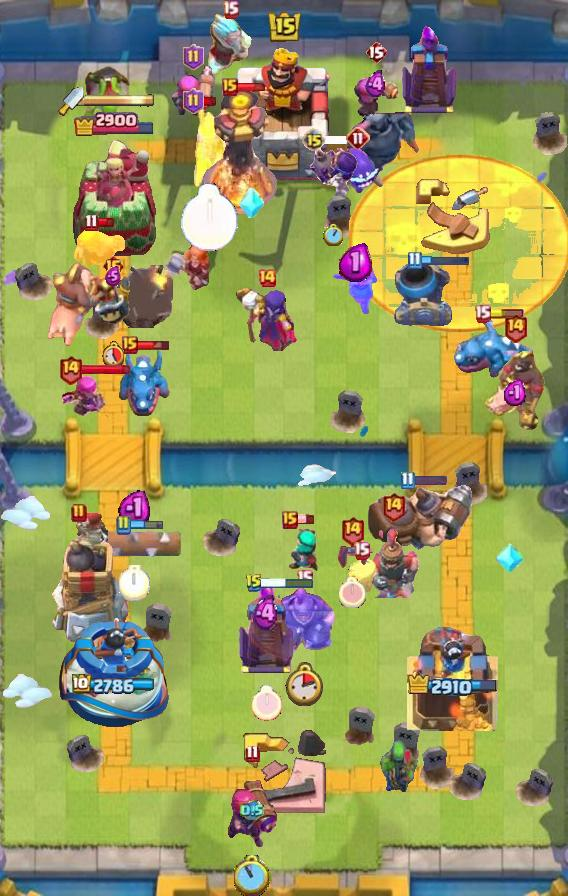archer-evolution: (59, 366, 117, 424)
bar: (261, 577, 314, 590), (419, 254, 471, 267), (80, 363, 131, 376), (324, 134, 360, 146), (129, 519, 164, 531), (136, 339, 171, 351), (412, 475, 448, 486), (488, 309, 524, 319), (236, 82, 268, 92), (296, 514, 315, 525), (96, 217, 115, 228), (201, 96, 218, 107)
bar-level: (340, 515, 365, 546), (381, 491, 406, 522), (58, 354, 83, 385), (503, 312, 528, 343), (302, 128, 326, 152), (346, 126, 370, 150), (102, 254, 125, 278), (183, 88, 204, 114), (183, 44, 204, 70), (365, 40, 387, 64), (257, 268, 277, 288), (245, 573, 263, 593), (296, 569, 313, 588), (353, 541, 370, 560), (474, 304, 491, 323), (222, 0, 239, 19), (115, 515, 131, 535), (71, 503, 87, 523), (282, 511, 298, 529), (122, 336, 138, 354), (222, 78, 238, 96), (245, 744, 260, 763), (400, 471, 415, 490), (407, 251, 422, 270), (84, 213, 99, 232)
barbarian: (73, 224, 125, 268)
bat: (335, 542, 369, 570)
bomb: (114, 265, 173, 328)
bomber-evolution: (307, 145, 359, 201)
clock: (180, 183, 239, 252), (285, 662, 323, 706), (234, 855, 271, 896), (251, 685, 282, 721), (119, 565, 150, 601), (339, 577, 366, 608), (102, 341, 124, 367), (323, 224, 343, 246)
dagger-duchess-tower: (70, 138, 158, 256)
dagger-duchess-tower-bar: (84, 93, 156, 107)
electro-dragon: (453, 316, 537, 380), (115, 344, 171, 418)
electro-spirit: (337, 148, 379, 194)
elixir: (339, 243, 372, 282), (118, 488, 150, 526), (252, 595, 280, 632), (503, 379, 528, 407), (365, 70, 387, 99), (240, 800, 264, 821), (105, 266, 121, 286)
firecracker: (353, 69, 400, 125), (170, 66, 216, 122)
firecracker-evolution: (225, 763, 279, 851)
goblin-ball: (82, 63, 132, 123)
guard: (92, 274, 134, 328)
heal-spirit: (345, 558, 377, 602)
ice-spirit-evolution-symbol: (496, 541, 524, 575), (238, 188, 264, 220)
ice-wizard: (205, 13, 255, 77)
king-tower: (229, 43, 339, 181)
mortar: (394, 262, 454, 326)
musketeer: (190, 105, 228, 203)
queen-tower: (55, 614, 174, 731), (407, 627, 499, 731)
rascal-girl: (285, 524, 321, 576)
royal-recruit: (365, 526, 421, 598)
spear-goblin: (379, 738, 419, 796)
the-log: (82, 526, 186, 560)
tower-bar: (407, 672, 500, 700), (73, 110, 156, 136), (72, 674, 157, 696)
valkyrie: (331, 262, 379, 316), (162, 243, 212, 291)
witch: (235, 285, 299, 351)
